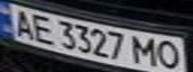2: (87, 26, 109, 59)
3: (51, 19, 78, 51), (69, 22, 93, 55)
7: (106, 29, 130, 62)
A: (6, 7, 39, 39)
E: (27, 11, 60, 44)
M: (130, 34, 160, 68)
O: (154, 38, 184, 71)
